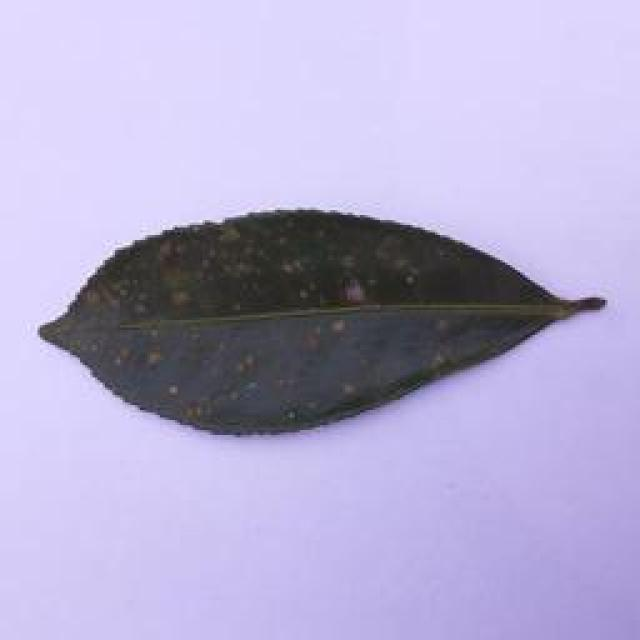Algal Leaf Spot: (27, 192, 640, 443)
